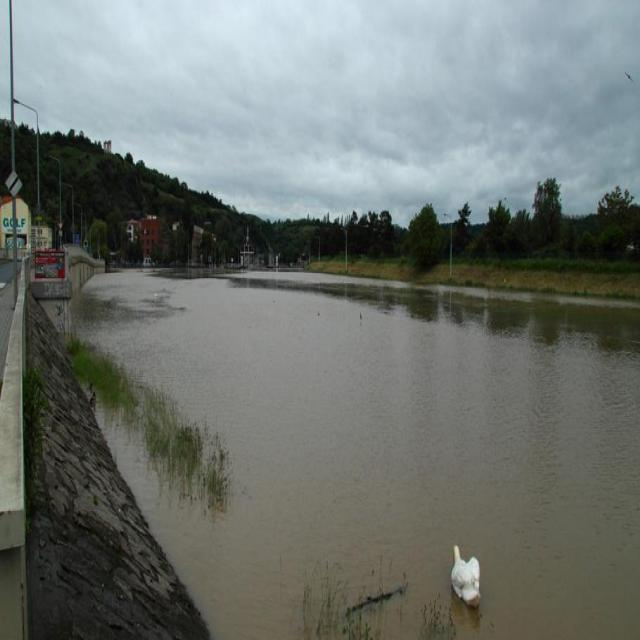flood: (90, 262, 640, 640)
